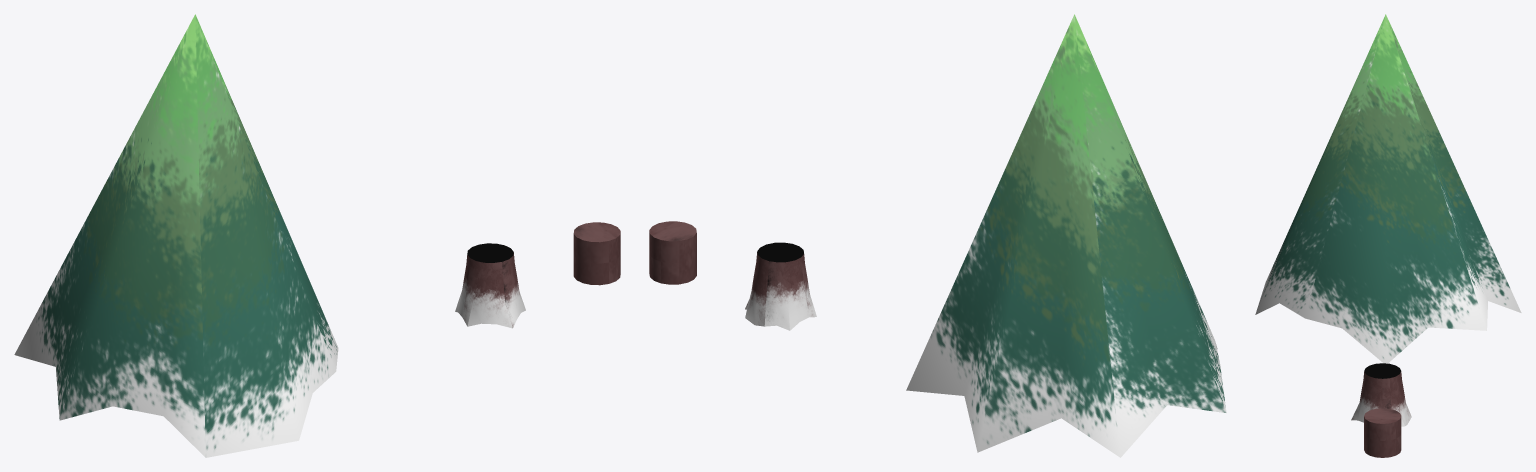
File: treeTileset.fbx
3 renders of one model, left to right at view 1: azimuth 30°, elevation 25°; view 2: azimuth 150°, elevation 25°; view 3: azimuth 270°, elevation 25°, orthographic. The views are drawn at different scales.
Parts seen in each view (by area): view 1: TreeLevaes, TreeTrunck, TreeBark; view 2: TreeLevaes, TreeTrunck, TreeBark; view 3: TreeLevaes, TreeTrunck, TreeBark.
Boxes of the visible parts, left/top/right/bottom form: TreeLevaes: left=14, top=14, right=338, bottom=457; TreeTrunck: left=455, top=243, right=525, bottom=328; TreeBark: left=573, top=222, right=620, bottom=285; TreeLevaes: left=906, top=14, right=1226, bottom=457; TreeTrunck: left=745, top=242, right=816, bottom=330; TreeBark: left=649, top=221, right=696, bottom=284; TreeLevaes: left=1255, top=14, right=1521, bottom=363; TreeTrunck: left=1351, top=363, right=1411, bottom=426; TreeBark: left=1364, top=408, right=1401, bottom=457.
Size of the model in its own units: 2114 by 1349 by 1096.
